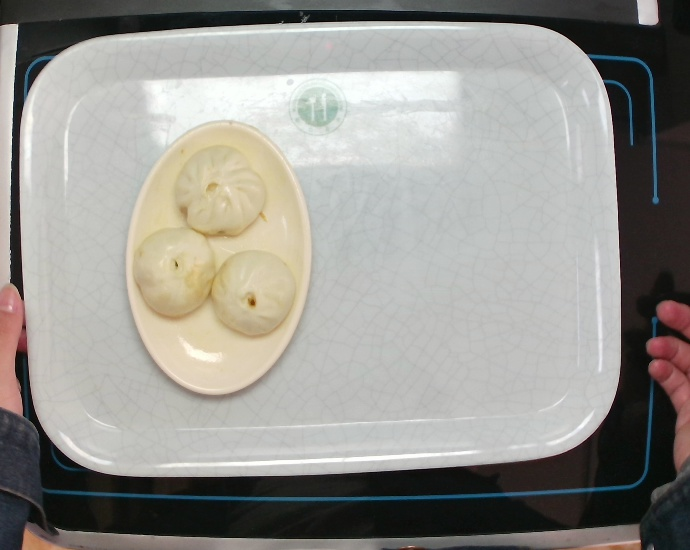JYsf-Tuo_Yuan_Wan: (120, 116, 319, 403)
